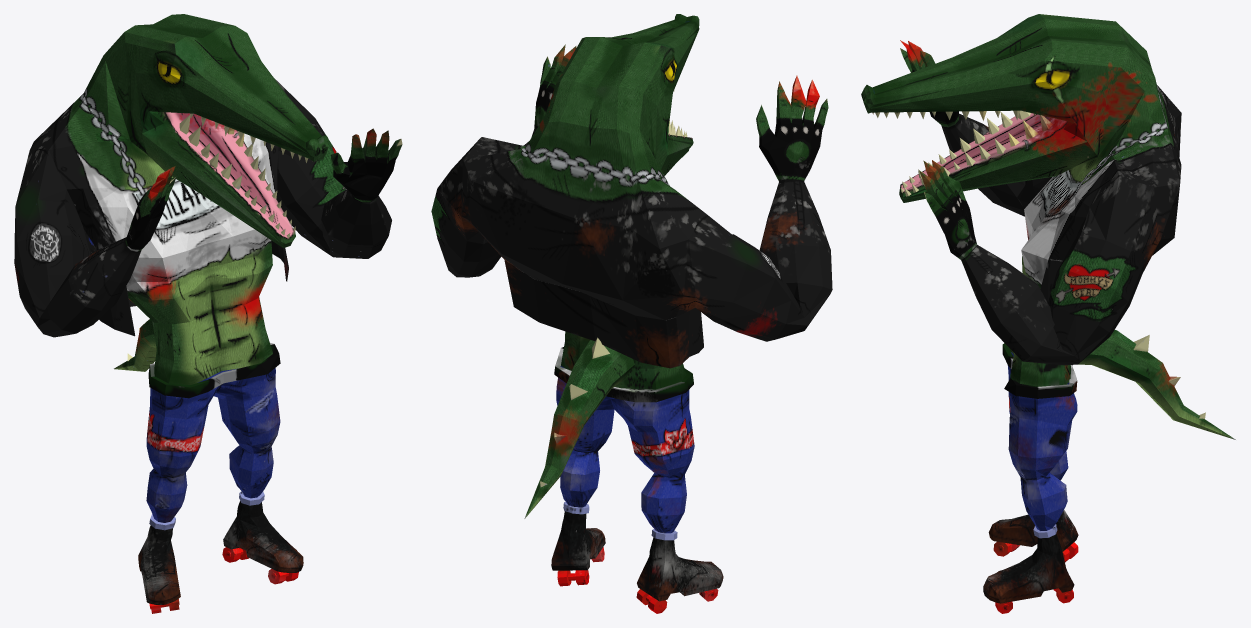
Rendered from cocodrilaBonesSelect_000022.obj.
The picture shows the model from 3 angles, left to right: view 1: azimuth 30°, elevation 25°; view 2: azimuth 150°, elevation 25°; view 3: azimuth 270°, elevation 25°; orthographic projection.
Visible parts, largest first — view 1: Crocodile.002_Cylinder.002; view 2: Crocodile.002_Cylinder.002; view 3: Crocodile.002_Cylinder.002.
Part boxes in pixels (<box>): Crocodile.002_Cylinder.002: <box>14,14,402,613</box>; Crocodile.002_Cylinder.002: <box>431,14,832,613</box>; Crocodile.002_Cylinder.002: <box>861,14,1235,613</box>.
Size of the model in its own units: 4.51 by 6.75 by 4.14.
